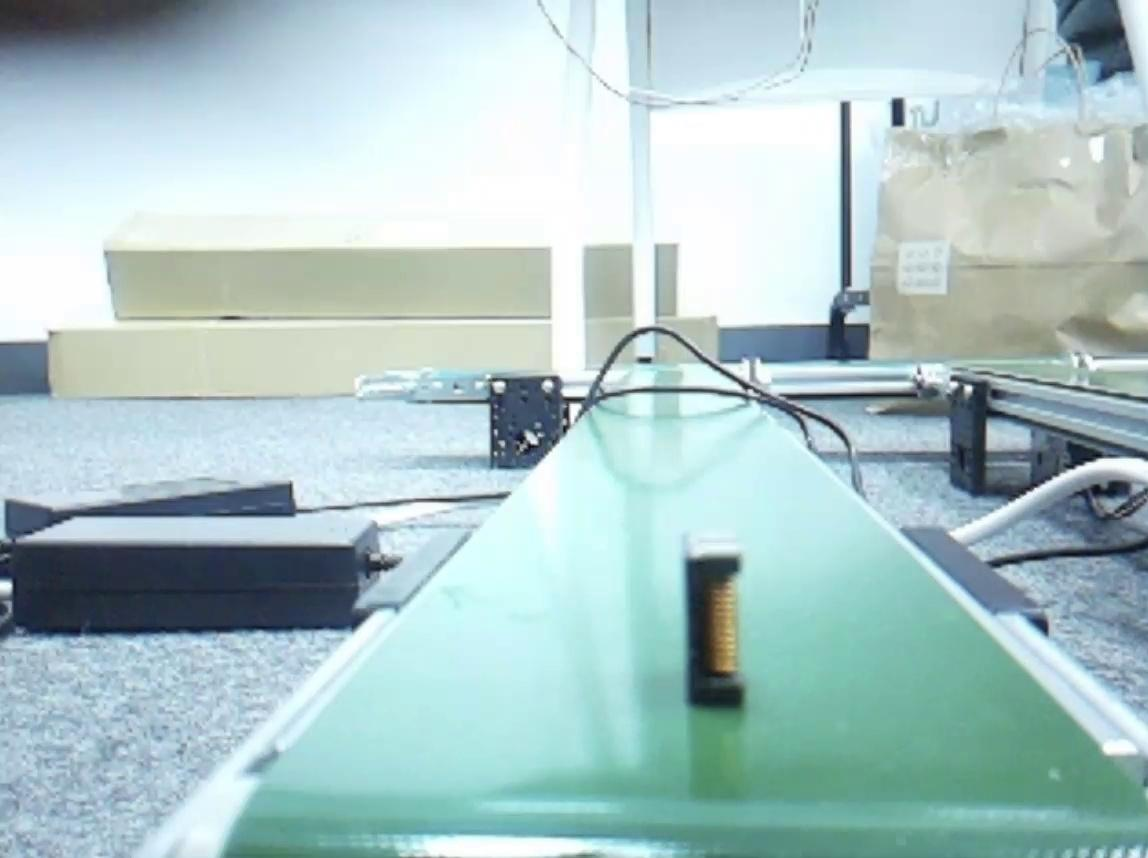inductor: (690, 537, 746, 704)
